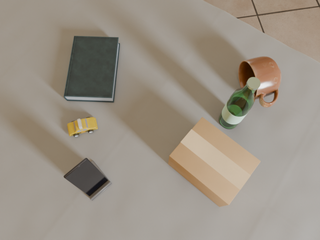book: (64, 36, 120, 102)
bottle: (219, 77, 261, 129)
box: (168, 117, 260, 207)
cup: (239, 56, 281, 107)
phone: (64, 158, 108, 196)
toy_car: (67, 117, 98, 137)
